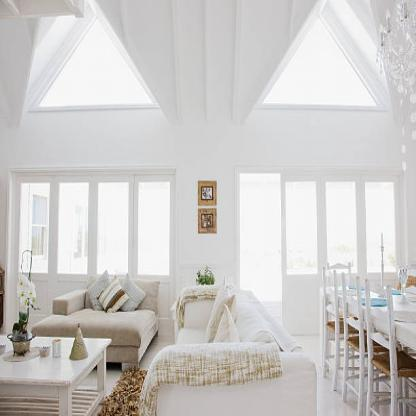Window: (16, 166, 173, 282), (239, 172, 400, 273)
